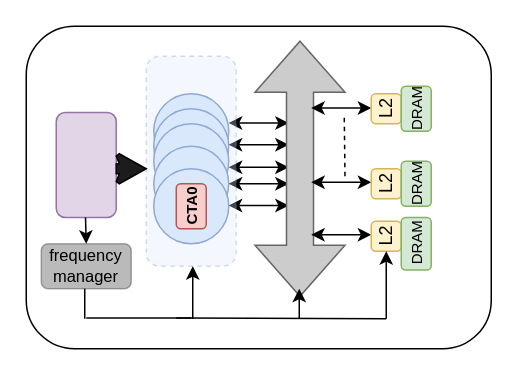
This 518x375 diagram has some shape labels left out. The shapes that lost their labels are listed below. From the top down, each one's box as (x1, y1, x2, y2) in pixels, then its label:
(55, 111, 116, 218): CTA Scheduler
(145, 55, 236, 266): cores
(254, 40, 345, 296): Network=on=chip
